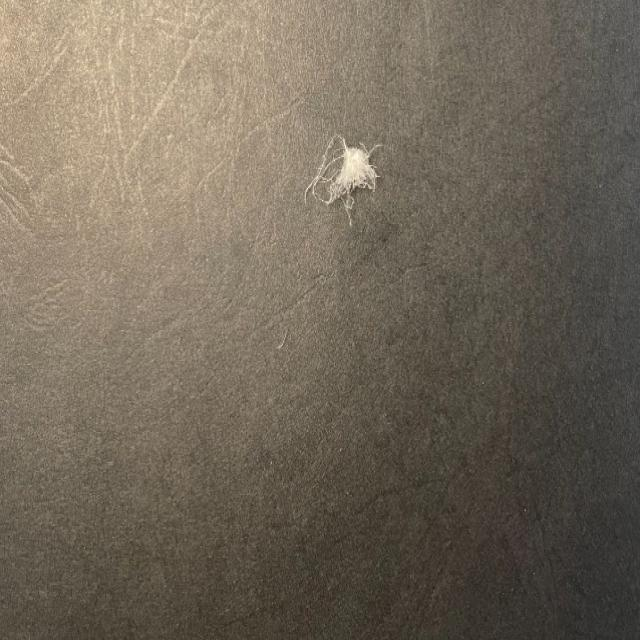feather: (303, 131, 383, 231)
